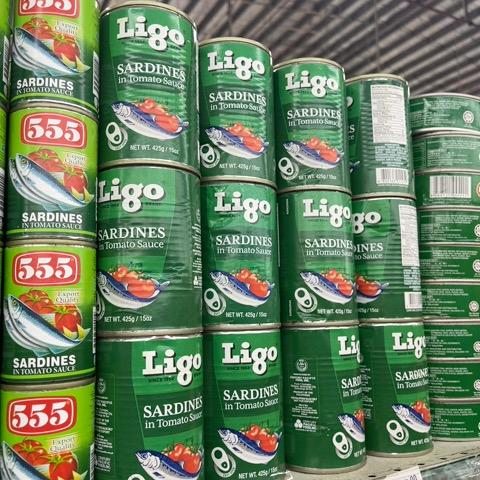canned-goods: (98, 164, 203, 335), (99, 1, 198, 172), (98, 327, 205, 480), (0, 234, 94, 379), (7, 97, 100, 241), (196, 25, 278, 187), (278, 326, 367, 474), (204, 328, 287, 480), (199, 179, 281, 330), (273, 53, 351, 195), (279, 189, 357, 327), (8, 0, 100, 110), (342, 67, 419, 198), (361, 322, 434, 458), (2, 376, 95, 480), (349, 195, 422, 324), (404, 82, 480, 136), (411, 129, 480, 172), (418, 166, 480, 212), (419, 277, 480, 323), (418, 238, 480, 283), (418, 206, 480, 244), (424, 319, 480, 360), (429, 395, 480, 440), (429, 356, 480, 400)
